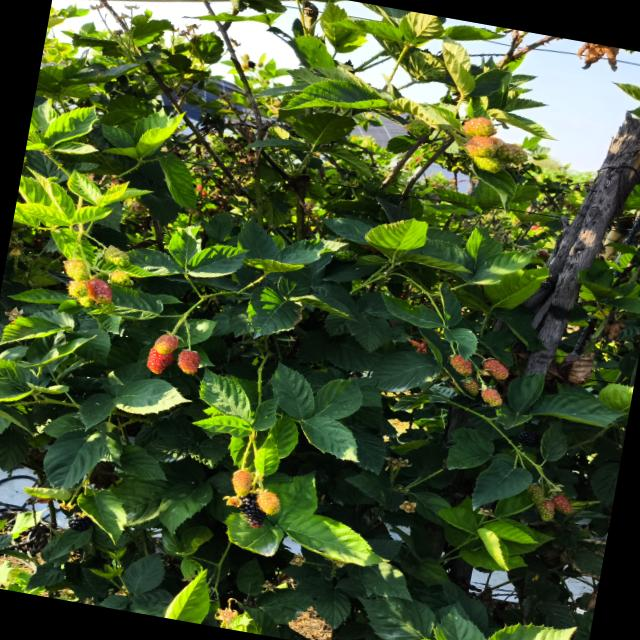maduro: (68, 513, 91, 532), (518, 431, 539, 447)
marron: (240, 493, 266, 527)
naranja: (146, 347, 174, 374), (85, 278, 112, 304), (177, 349, 200, 374), (482, 358, 508, 380), (154, 334, 178, 354), (449, 354, 471, 375), (552, 494, 573, 514), (481, 388, 502, 407)
verde: (465, 136, 503, 157), (495, 143, 527, 164), (463, 117, 496, 136), (63, 259, 90, 281), (256, 490, 280, 514), (103, 245, 129, 267), (231, 470, 253, 496), (473, 156, 502, 172), (527, 484, 545, 506), (108, 269, 131, 286), (537, 499, 554, 521), (408, 119, 430, 136), (67, 280, 88, 297), (461, 378, 479, 396)
